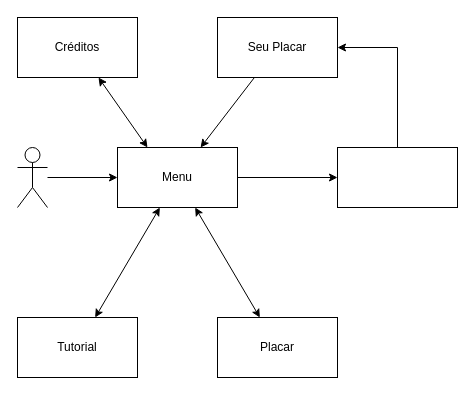
The diagram is 475 pixels wide and 395 high, and some of its shapes have lost their labels. The shapes that lost their labels are listed below. From the top down, each one's centre as x and y in pixels, then its label:
point 32,177: Actor
point 397,177: Duelo
